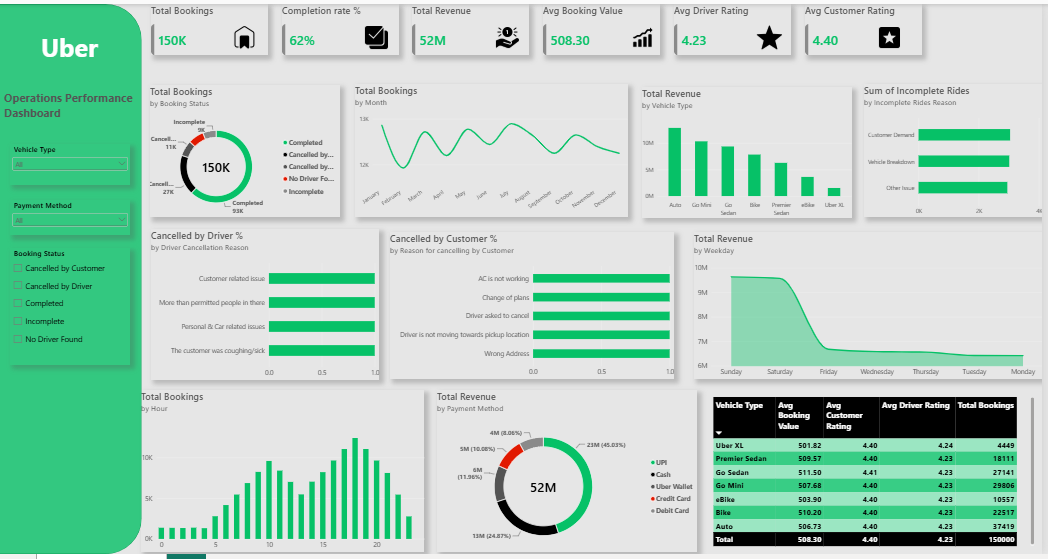

This screenshot's page, from the dashboard's own definition file:
{"tool":"powerbi","page":{"name":"Uber Dashboard","canvas":[2240,1180],"ordinal":0},"visuals":[{"type":"cardVisual","title":"Total Bookings","fields":{"Data":["project03.Total Bookings"]},"box":[327.6,0,250,110],"z":0},{"type":"cardVisual","title":"Completion rate %","fields":{"Data":["project03.Completion Rate %"]},"box":[608.4,0,250,110],"z":1000},{"type":"cardVisual","title":"Total Revenue","fields":{"Data":["project03.Total Revenue"]},"box":[889.3,0,250,110],"z":2000},{"type":"cardVisual","title":"Avg Booking Value","fields":{"Data":["project03.Avg Booking Value"]},"box":[1170.1,0,250,110],"z":3000},{"type":"donutChart","fields":{"Category":["project03.Booking Status"],"Y":["project03.Total Bookings"]},"box":[325.2,173.4,407.1,284.2],"z":4000},{"type":"lineChart","fields":{"Y":["project03.Total Bookings"],"Category":["project03.Date.Variation.Date Hierarchy.Month"]},"box":[765,172.5,585,285],"z":5000},{"type":"columnChart","fields":{"Y":["project03.Total Bookings"],"Category":["project03.Hour"]},"box":[307.5,828.1,607.5,347.5],"z":6000},{"type":"cardVisual","title":"Avg Driver Rating","fields":{"Data":["project03.Avg Driver Rating"]},"box":[1450.9,0,250,110],"z":7000},{"type":"cardVisual","title":"Avg Customer Rating","fields":{"Data":["project03.Avg Customer Rating"]},"box":[1731.8,0,250,110],"z":8000},{"type":"barChart","fields":{"Category":["project03.Reason for cancelling by Customer"],"Y":["project03.Cancelled by Customer %"]},"box":[840,490,610,315],"z":9000},{"type":"barChart","fields":{"Category":["project03.Driver Cancellation Reason"],"Y":["project03.Cancelled by Driver %"]},"box":[327.5,482.5,490,322.5],"z":10000},{"type":"barChart","fields":{"Category":["project03.Incomplete Rides Reason"],"Y":["Sum(project03.Incomplete Rides)"]},"box":[1857.5,172.5,382.5,285],"z":11000},{"type":"clusteredColumnChart","fields":{"Y":["project03.Total Revenue"],"Category":["project03.Vehicle Type"]},"box":[1382.5,177.5,450,280],"z":12000},{"type":"tableEx","fields":{"Values":["project03.Vehicle Type","project03.Avg Booking Value","project03.Avg Customer Rating","project03.Avg Driver Rating","project03.Total Bookings"]},"box":[1516,828,724,352],"z":13000},{"type":"donutChart","fields":{"Y":["project03.Total Revenue"],"Category":["project03.Payment Method"]},"box":[942.5,828.1,557.5,347.5],"z":14000},{"type":"areaChart","fields":{"Category":["project03.Weekday"],"Y":["project03.Total Revenue"]},"box":[1492.5,490,747.5,315],"z":15000},{"type":"shape","box":[0,0,308.3,1180.2],"z":16000},{"type":"textbox","box":[12.2,55.6,295.6,221.1],"z":17000},{"type":"slicer","fields":{"Values":["project03.Vehicle Type"]},"box":[26.7,300,257.9,86.8],"z":18000},{"type":"slicer","fields":{"Values":["project03.Booking Status"]},"box":[26.7,523.3,257.9,250],"z":19000},{"type":"slicer","fields":{"Values":["project03.Payment Method"]},"box":[26.7,420,257.9,76.3],"z":20000},{"type":"image","box":[1865.7,44.3,91.4,54.3],"z":21000},{"type":"image","box":[481.7,45,91.4,54.3],"z":22000},{"type":"image","box":[765.7,44.3,91.4,54.3],"z":23000},{"type":"image","box":[1047.1,44.3,91.4,54.3],"z":24000},{"type":"image","box":[1337.1,44.3,91.4,54.3],"z":25000},{"type":"image","box":[1610,44.3,91.4,54.3],"z":26000}]}

Visuals, with their boxes in screenshot pixels (x1, y1, x2, y2), scaled from the page's 2240x1180 canvas onto the 1048x559 screenshot:
"Total Bookings" cardVisual: x1=153, y1=0, x2=270, y2=52
"Completion rate %" cardVisual: x1=285, y1=0, x2=402, y2=52
"Total Revenue" cardVisual: x1=416, y1=0, x2=533, y2=52
"Avg Booking Value" cardVisual: x1=547, y1=0, x2=664, y2=52
donutChart - project03.Booking Status x project03.Total Bookings: x1=152, y1=82, x2=343, y2=217
lineChart - project03.Total Bookings x project03.Date.Variation.Date Hierarchy.Month: x1=358, y1=82, x2=632, y2=217
columnChart - project03.Total Bookings x project03.Hour: x1=144, y1=392, x2=428, y2=557
"Avg Driver Rating" cardVisual: x1=679, y1=0, x2=796, y2=52
"Avg Customer Rating" cardVisual: x1=810, y1=0, x2=927, y2=52
barChart - project03.Reason for cancelling by Customer x project03.Cancelled by Customer %: x1=393, y1=232, x2=678, y2=381
barChart - project03.Driver Cancellation Reason x project03.Cancelled by Driver %: x1=153, y1=229, x2=382, y2=381
barChart - project03.Incomplete Rides Reason x Sum(project03.Incomplete Rides): x1=869, y1=82, x2=1047, y2=217
clusteredColumnChart - project03.Total Revenue x project03.Vehicle Type: x1=647, y1=84, x2=857, y2=217
tableEx - project03.Vehicle Type x project03.Avg Booking Value: x1=709, y1=392, x2=1047, y2=558
donutChart - project03.Total Revenue x project03.Payment Method: x1=441, y1=392, x2=702, y2=557
areaChart - project03.Weekday x project03.Total Revenue: x1=698, y1=232, x2=1047, y2=381
shape: x1=0, y1=0, x2=144, y2=558
textbox: x1=6, y1=26, x2=144, y2=131
slicer - project03.Vehicle Type: x1=12, y1=142, x2=133, y2=183
slicer - project03.Booking Status: x1=12, y1=248, x2=133, y2=366
slicer - project03.Payment Method: x1=12, y1=199, x2=133, y2=235
image: x1=873, y1=21, x2=916, y2=47
image: x1=225, y1=21, x2=268, y2=47
image: x1=358, y1=21, x2=401, y2=47
image: x1=490, y1=21, x2=533, y2=47
image: x1=626, y1=21, x2=668, y2=47
image: x1=753, y1=21, x2=796, y2=47
